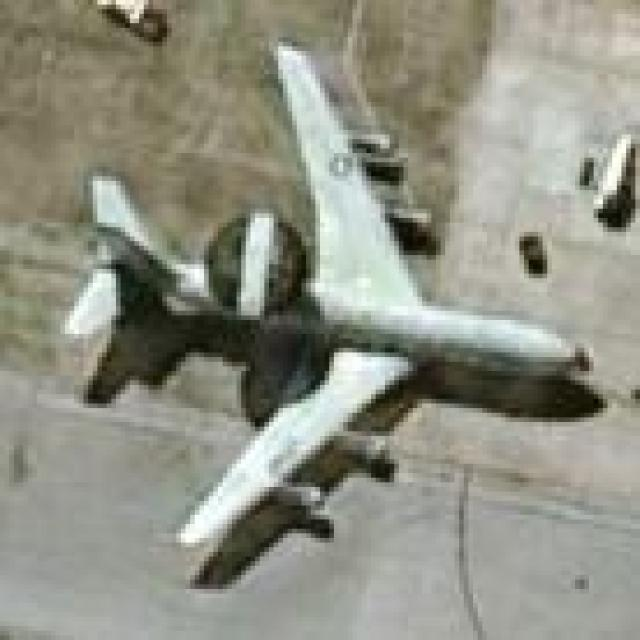E-3_TopDown: (60, 39, 605, 594)
